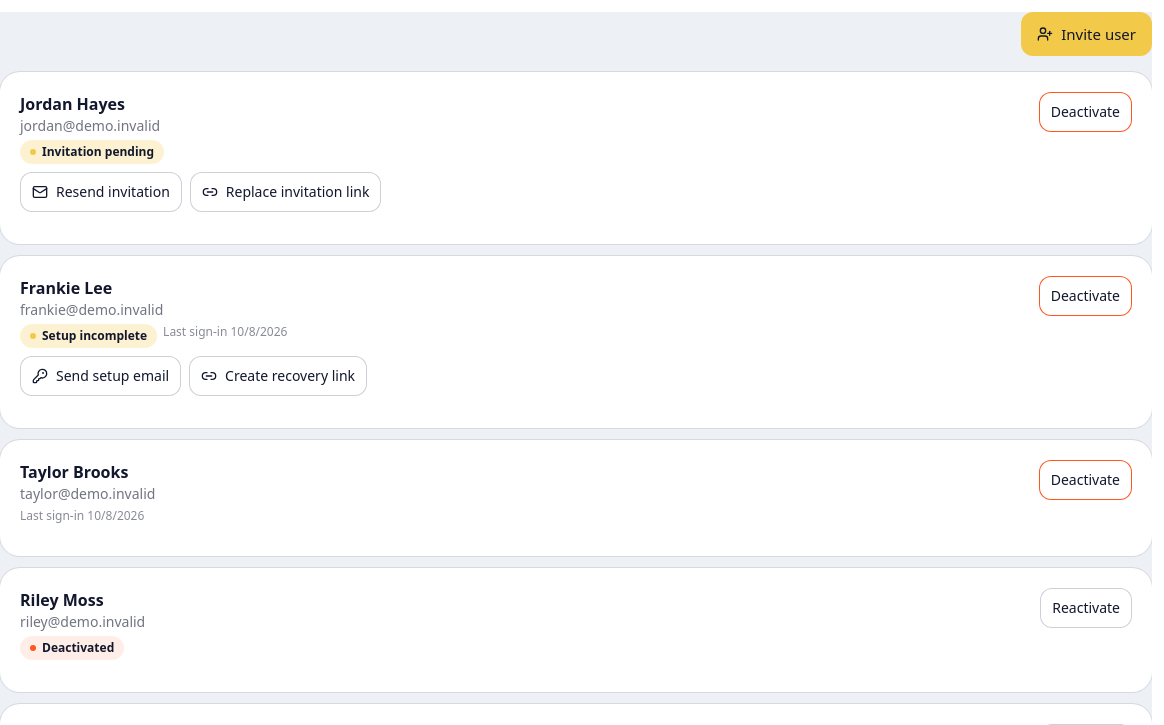
Test: recovery channel (opened invitation, no password) › audit failure on email → prominent warning toast, not a plain success
Click the button "Send setup email".
click(101, 376)  # box top-left (20, 356), bottom-right (181, 396)
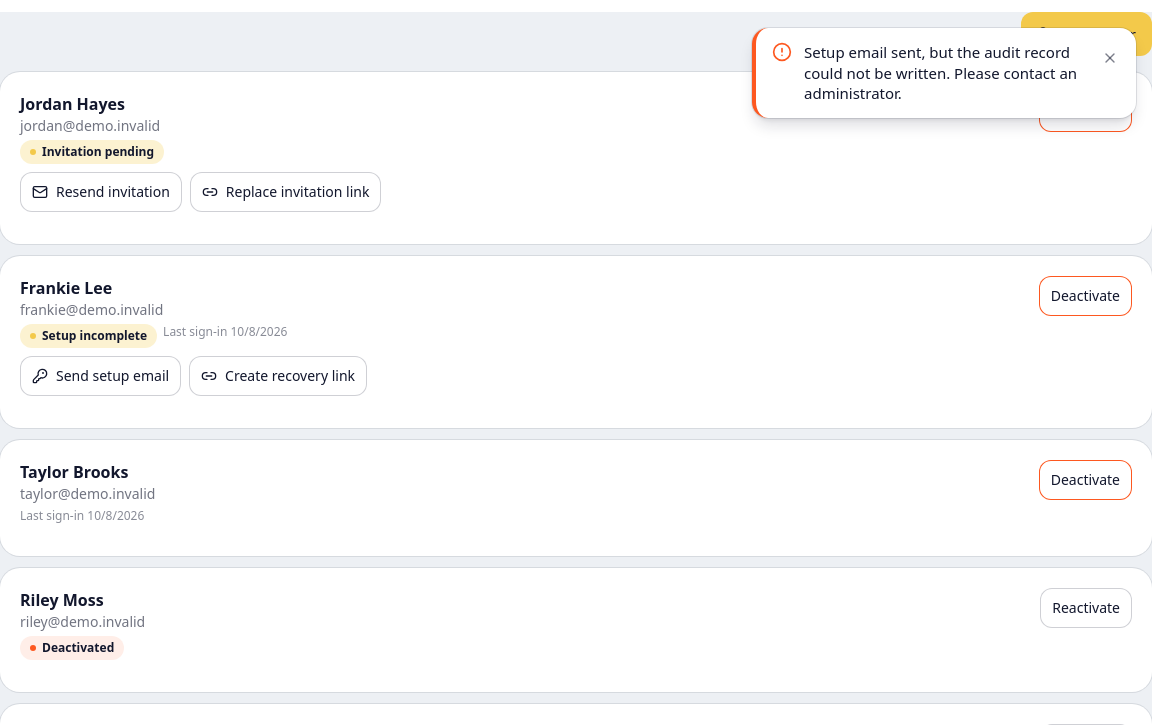
Expected: the text "Setup email sent, but the audit record could not be written. Please contact an administrator." is shown, top-left (804, 42), bottom-right (1077, 103)
